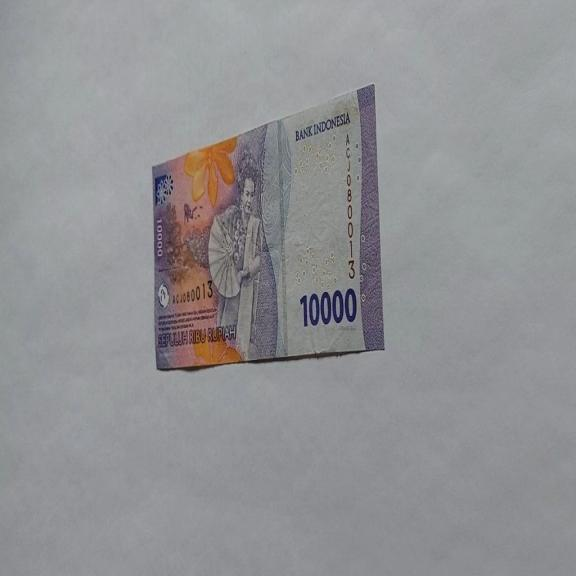Kertas: (151, 82, 385, 371), (299, 286, 357, 328)
